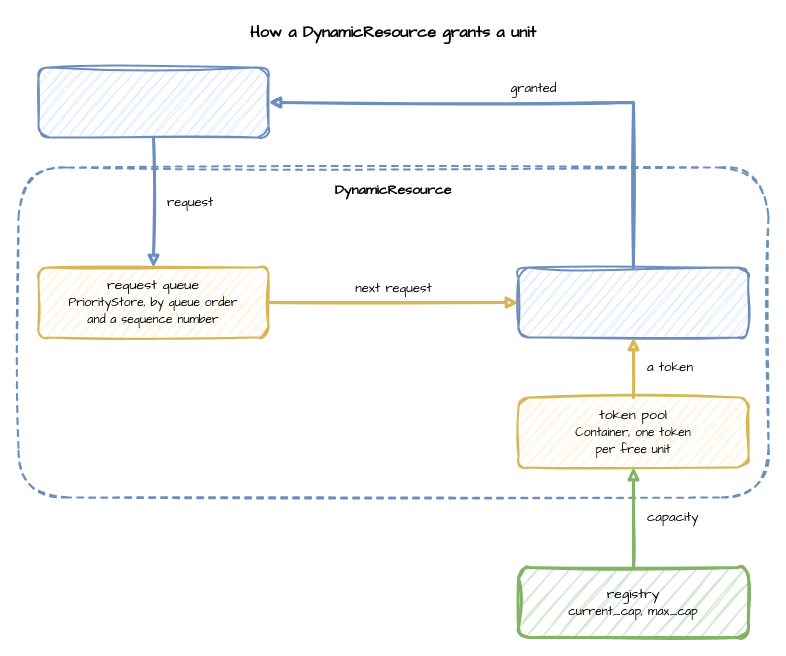
Some shapes in this 786 by 656 pixel diagram are drawn without their labels. Here are the shapes that lost their labels. From the top down, the centre of each, then its label:
pixel 153 102: task
pixel 633 302: dispatcher a SimPy process
